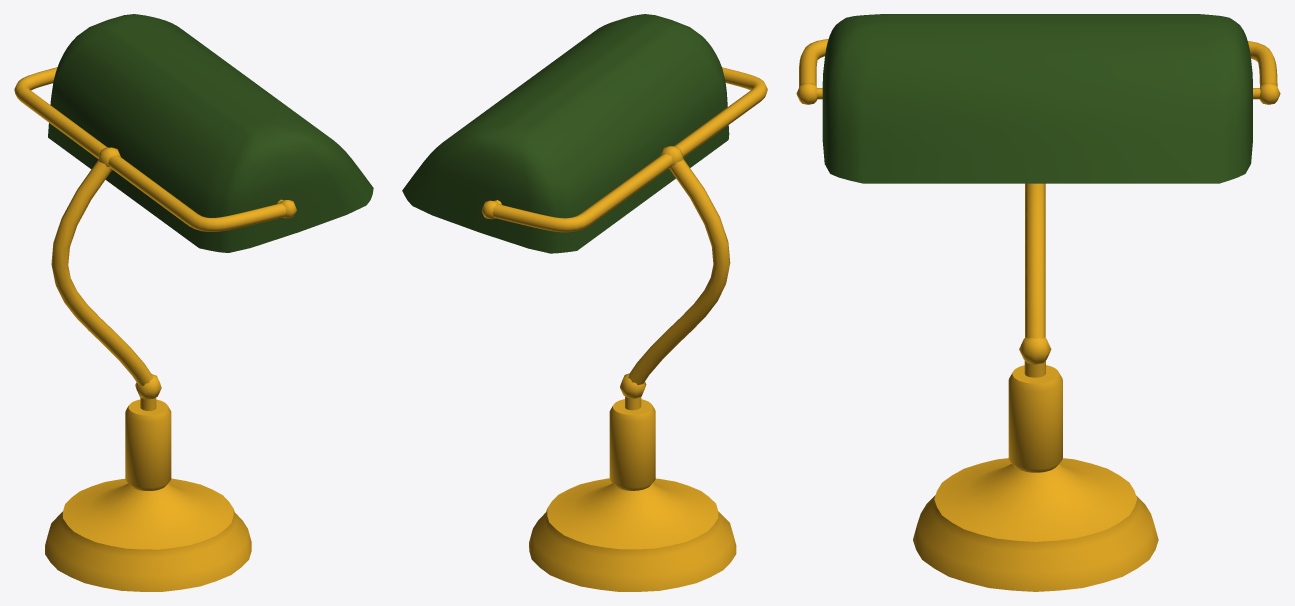
Rendered from TheLamp.fbx.
3 views of the same model, side by side, from view 1: azimuth 30°, elevation 25°; view 2: azimuth 150°, elevation 25°; view 3: azimuth 270°, elevation 25° (orthographic). The views are drawn at different scales.
Parts seen in each view (by area): view 1: desk_lamp; view 2: desk_lamp; view 3: desk_lamp.
Boxes of the visible parts, x1,y1,x2,y2 form: desk_lamp: (14,14,373,591); desk_lamp: (402,14,767,591); desk_lamp: (796,14,1280,591).
Size of the model in its own units: 11.47 by 20.44 by 16.45.
